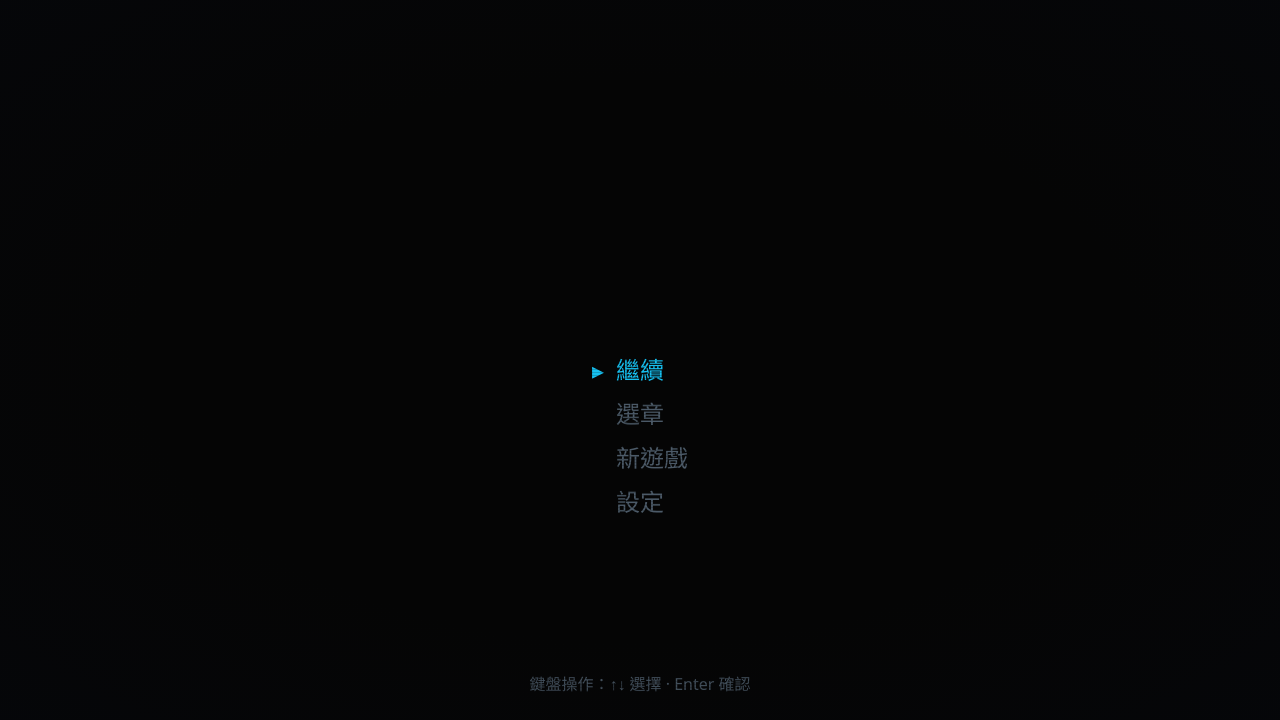
TitleScreen › 選章 › 確認時取消會回到章節清單，清單按 Esc 回標題選單
Click the button "選章".
click(628, 414)  # box [584,394,672,434]
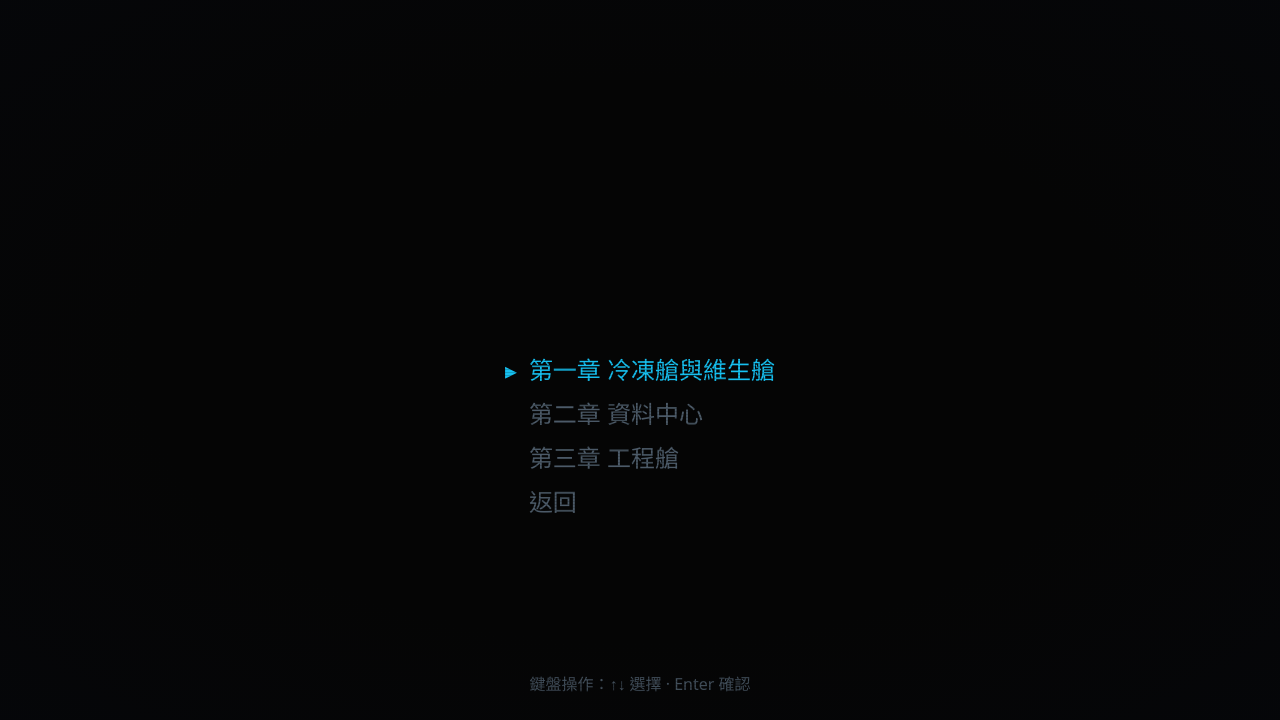
Press ArrowDown
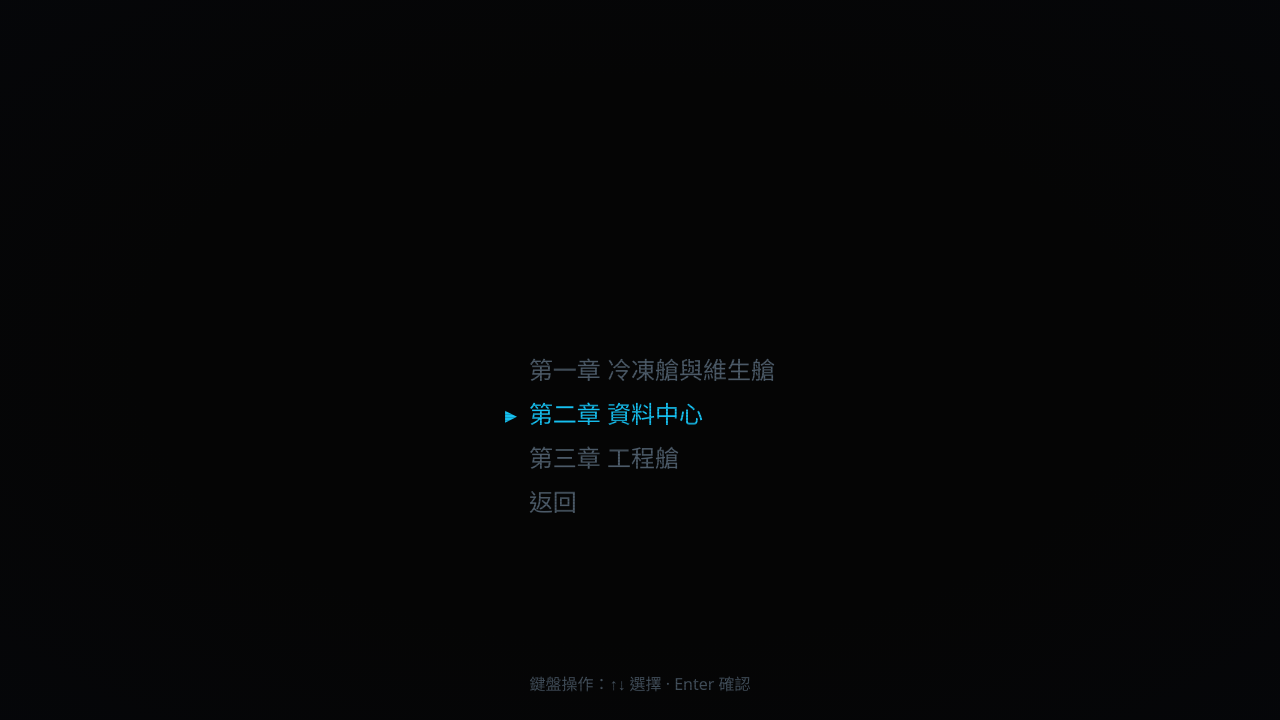
Press Enter
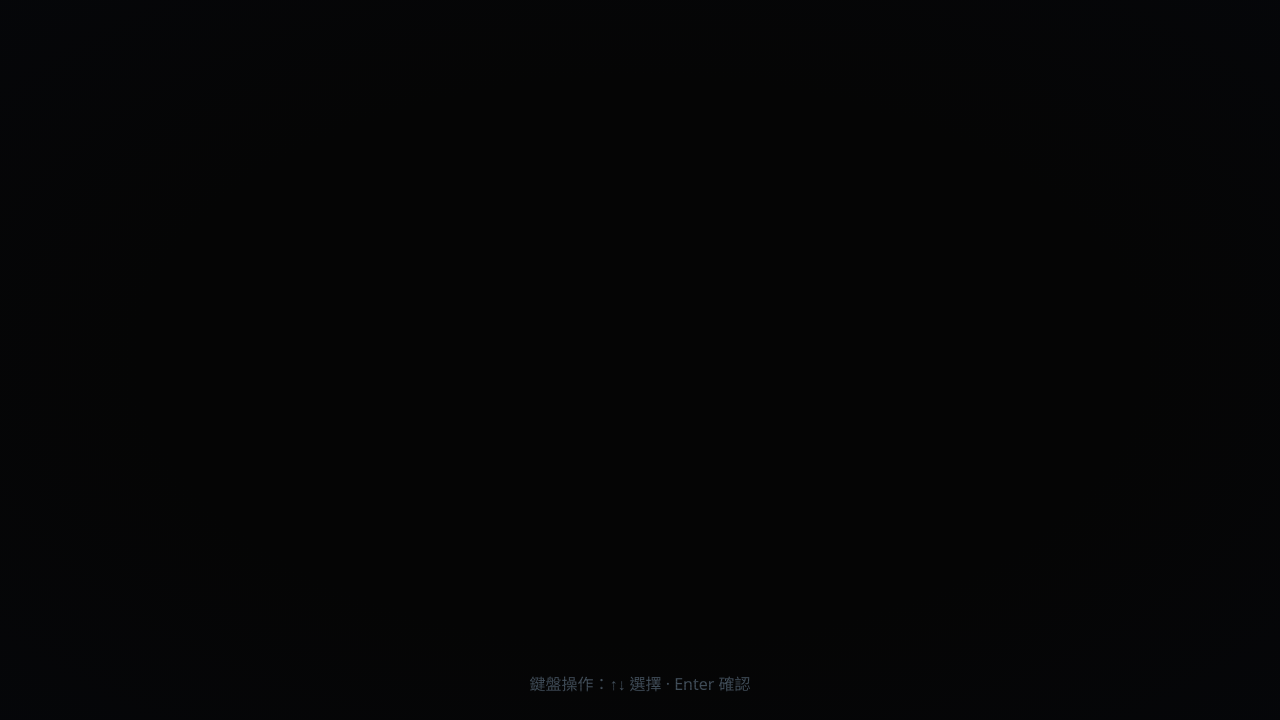
Press Enter
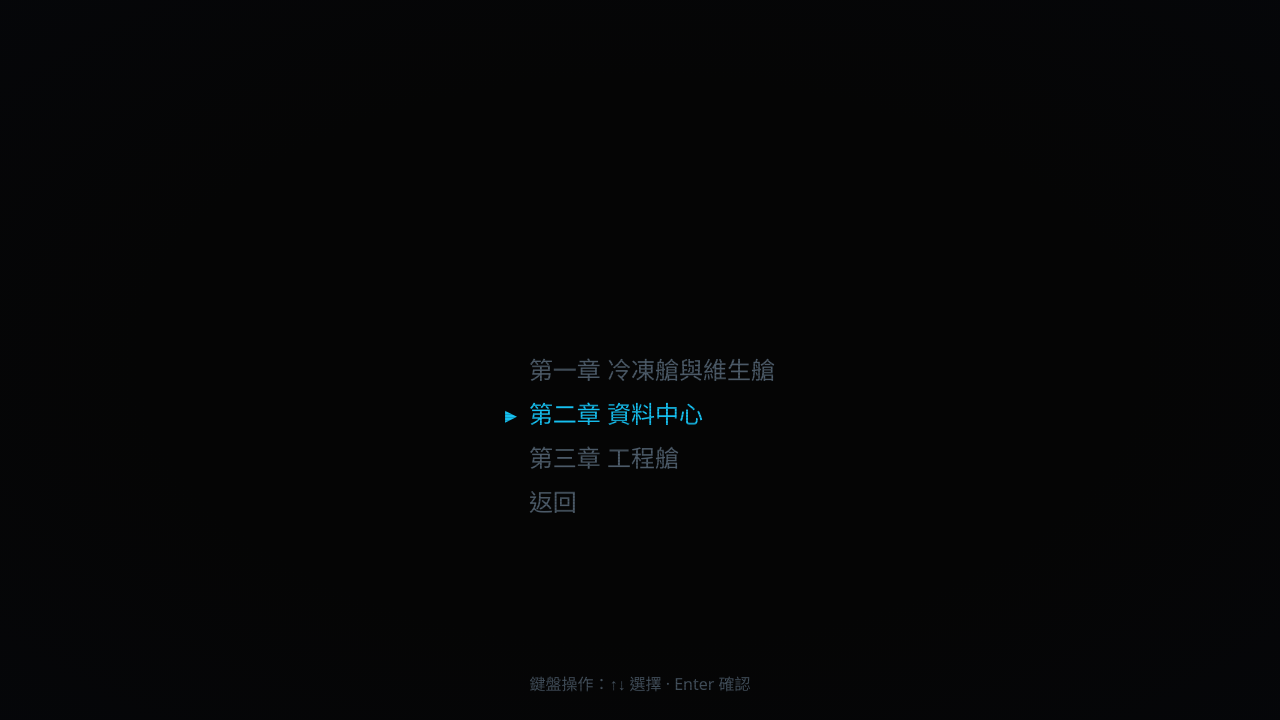
Expected: the button "▸ 第二章 資料中心" is shown, [497,394,711,434]
Press Escape
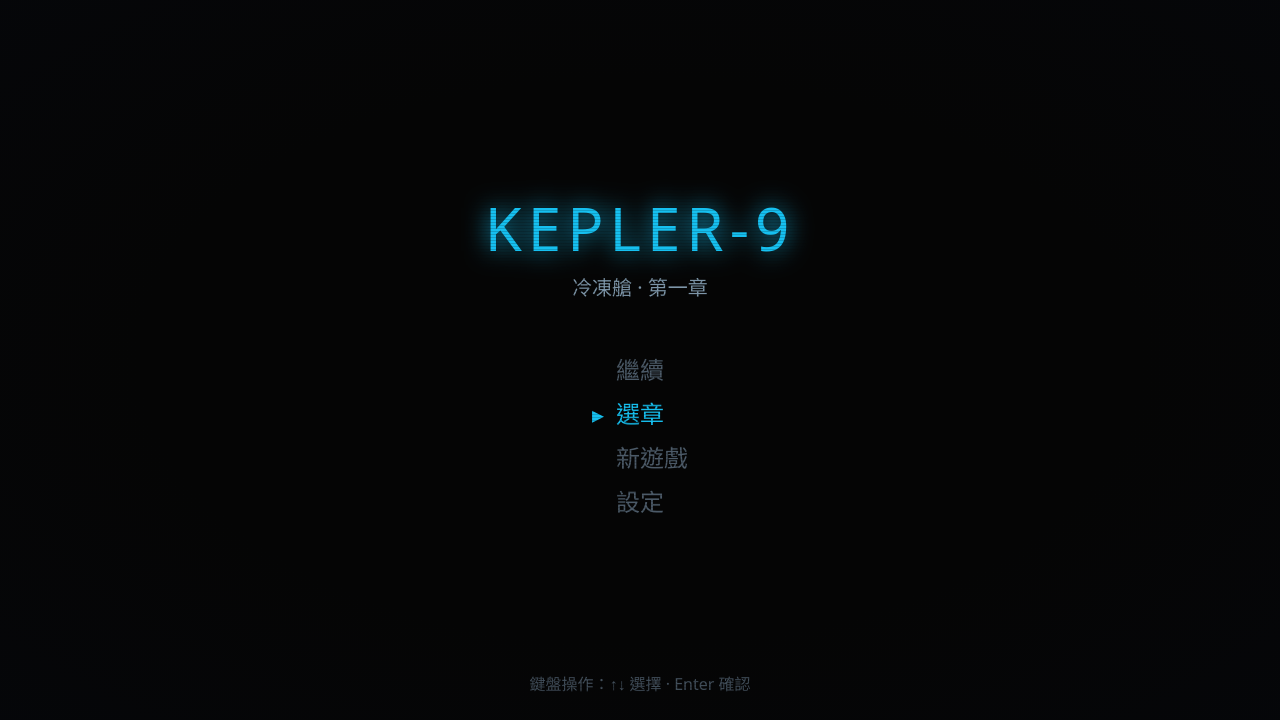
Expected: the button "繼續" is shown, [584,350,672,390]
